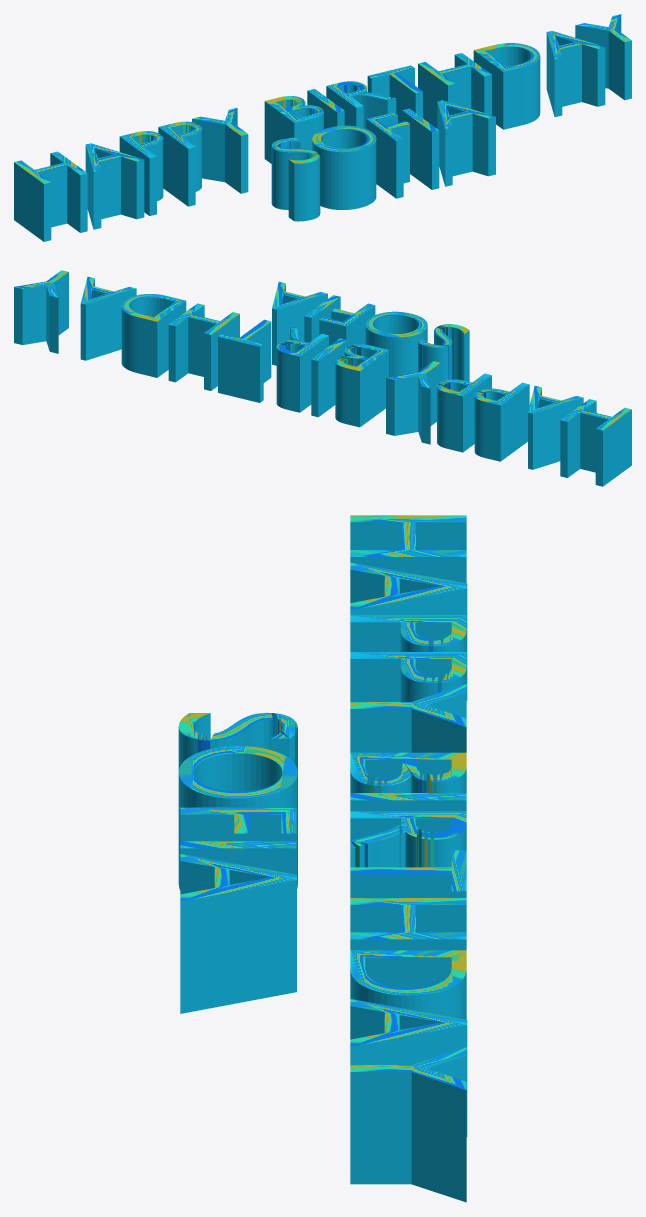
File: HBD_Sofia2.gltf
3 views of the same model, one above another, from view 1: azimuth 30°, elevation 25°; view 2: azimuth 150°, elevation 25°; view 3: azimuth 270°, elevation 25° (orthographic). The views are drawn at different scales.
Visible parts, largest first — view 1: Text; view 2: Text; view 3: Text.
Part boxes in pixels (left/top/right/bottom): Text: left=14, top=14, right=631, bottom=241; Text: left=14, top=270, right=631, bottom=486; Text: left=178, top=515, right=467, bottom=1202.
Bounding box in the file's own units: 7.99 × 0.7284 × 1.7.
Materials: 1 (1 with a texture image).
